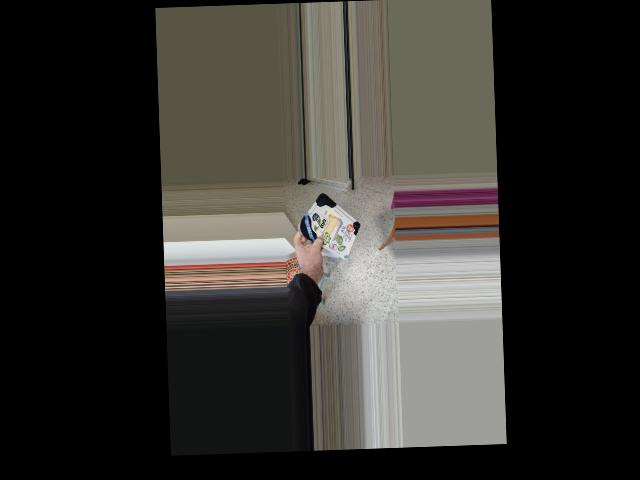cheese: (295, 193, 367, 256)
